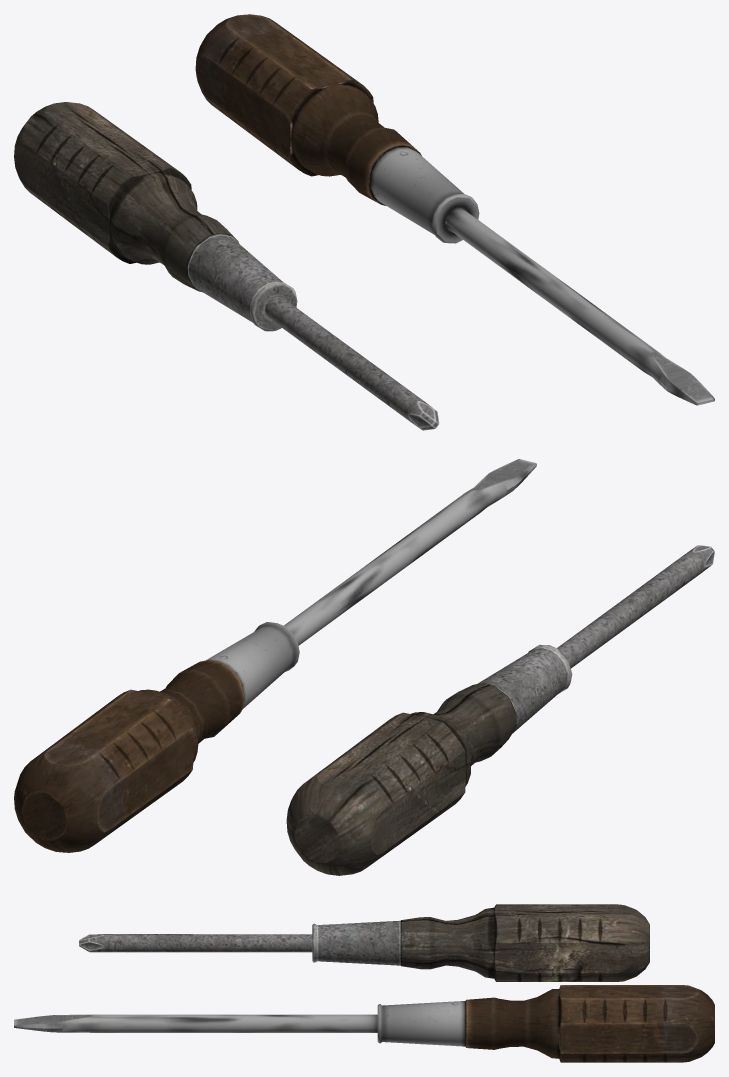
The picture shows the model from 3 angles, top to bottom: view 1: azimuth 30°, elevation 25°; view 2: azimuth 150°, elevation 25°; view 3: azimuth 270°, elevation 25°; orthographic projection. The views are drawn at different scales.
Visible parts, largest first — view 1: screwdrivers_02_a; view 2: screwdrivers_02_a; view 3: screwdrivers_02_a.
Boxes of the visible parts, x1,y1,x2,y2 form: screwdrivers_02_a: (14,14,714,430); screwdrivers_02_a: (14,459,714,875); screwdrivers_02_a: (14,904,714,1062).
Bounding box in the file's own units: 0.1004 × 0.0271 × 0.2699.
Materials: 1 (1 with a texture image).
